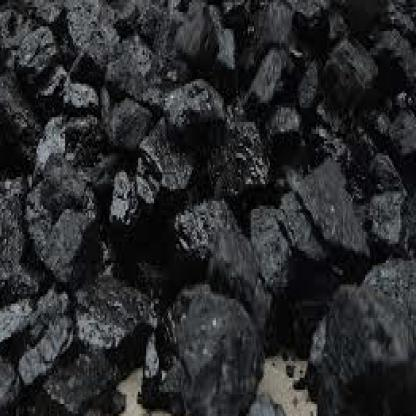Sedimentary_coal: (140, 266, 278, 414), (316, 251, 413, 414), (176, 187, 276, 325), (276, 156, 362, 290), (20, 156, 104, 282), (32, 328, 122, 414), (154, 79, 229, 148), (317, 24, 378, 100), (356, 184, 413, 258), (12, 16, 66, 84)
